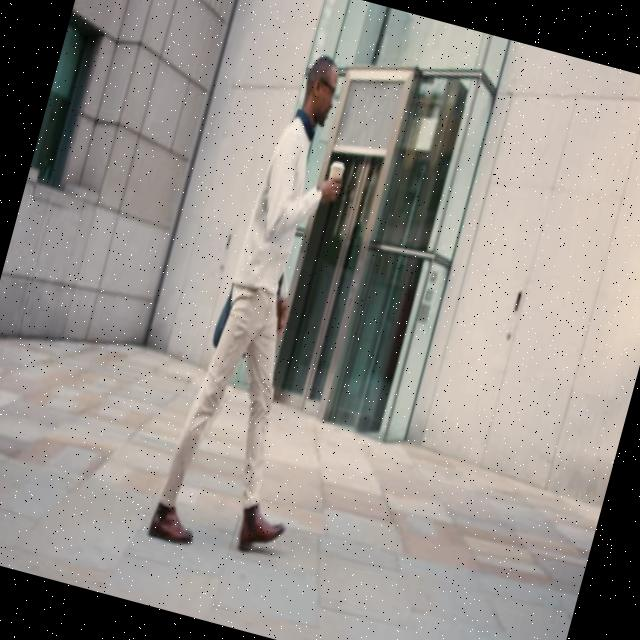Person: (146, 43, 406, 568)
